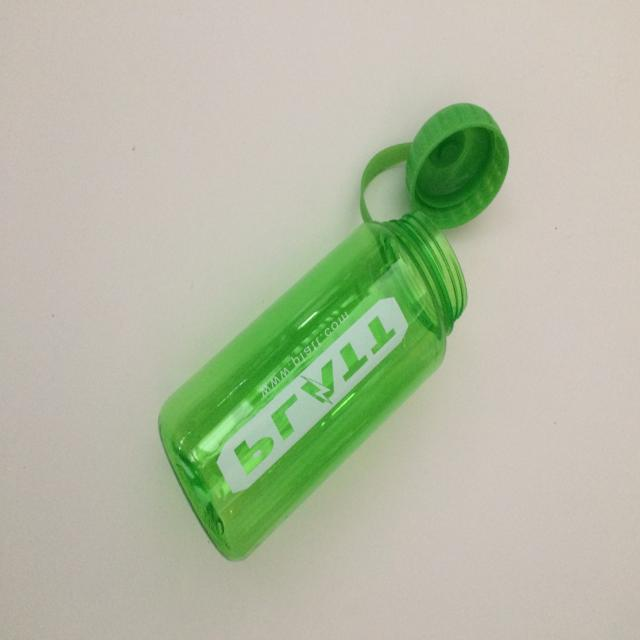plastic: (158, 101, 510, 562)
